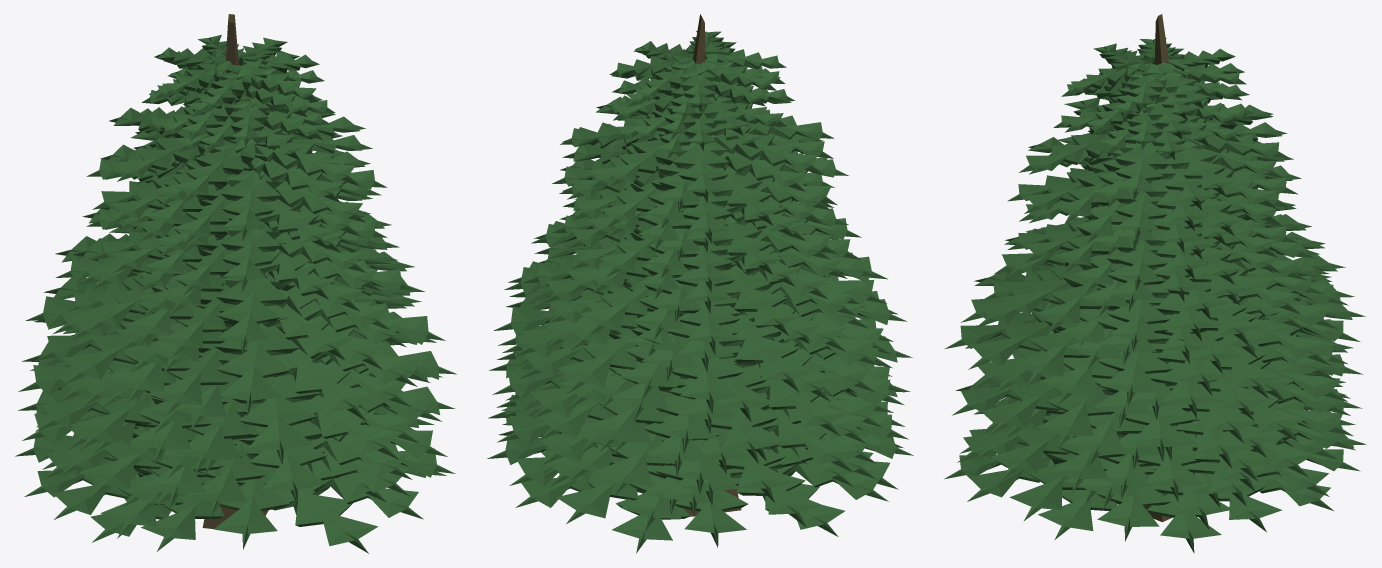
File: pine tree.fbx
3 renders of one model, left to right at view 1: azimuth 30°, elevation 25°; view 2: azimuth 150°, elevation 25°; view 3: azimuth 270°, elevation 25°, orthographic. The views are drawn at different scales.
Parts seen in each view (by area): view 1: pasted__pasted__pasted__pasted__pasted__pasted__pasted__past (×33), pasted__pasted__pasted__pasted__pasted__pasted__pasted__pCon (×13), pasted__pasted__pasted__pasted__pasted__pCone17, pasted__pasted__pasted__pasted__pCone2, pasted__pasted__pasted__pasted__pasted__pasted__pCone25, pasted__pasted__pasted__pasted__pCone20, pasted__pasted__pasted__pCone20, pasted__pasted__pasted__pCone10, pasted__pasted__pasted__pasted__pCone26, pasted__pasted__pasted__pCone3, pasted__pasted__pasted__pCone6, pasted__pasted__pasted__pasted__pCone17 (+56 smaller); view 2: pasted__pasted__pasted__pasted__pasted__pasted__pasted__past (×39), pasted__pasted__pasted__pasted__pasted__pasted__pasted__pCon (×16), pasted__pasted__pasted__pasted__pasted__pCone19, pasted__pasted__pasted__pasted__pasted__pasted__pCone22, pasted__pasted__pasted__pasted__pasted__pCone20, pasted__pasted__pasted__pCone8, pasted__pasted__pasted__pasted__pCone8, pasted__pasted__pasted__pasted__pCone18, pasted__pasted__pasted__pCone9, pasted__pasted__pasted__pasted__pCone9, pasted__pasted__pasted__pCone5, pasted__pasted__pasted__pasted__pCone24 (+65 smaller); view 3: pasted__pasted__pasted__pasted__pasted__pasted__pasted__past (×59), pasted__pasted__pasted__pasted__pasted__pasted__pasted__pCon (×17), pasted__pasted__pasted__pasted__pasted__pCone7, pasted__pasted__pasted__pasted__pasted__pasted__pCone17, pasted__pasted__pasted__pasted__pCone5, pasted__pasted__pasted__pasted__pasted__pasted__pCone8, pasted__pasted__pasted__pCone11, pasted__pasted__pasted__pasted__pasted__pCone21, pasted__pasted__pasted__pasted__pasted__pasted__pCone38, pasted__pasted__pasted__pasted__pasted__pCone31, pasted__pasted__pasted__pasted__pasted__pCone14, pasted__pasted__pasted__pasted__pasted__pCone3 (+38 smaller).
Boxes of the visible parts, x1,y1,x2,y2 form: pasted__pasted__pasted__pasted__pasted__pasted__pasted__past (×33): [86, 37, 406, 347]; pasted__pasted__pasted__pasted__pasted__pasted__pasted__pCon (×13): [91, 159, 430, 479]; pasted__pasted__pasted__pasted__pasted__pCone17: [214, 323, 299, 415]; pasted__pasted__pasted__pasted__pCone2: [231, 374, 320, 465]; pasted__pasted__pasted__pasted__pasted__pasted__pCone25: [216, 274, 289, 354]; pasted__pasted__pasted__pasted__pCone20: [272, 348, 374, 420]; pasted__pasted__pasted__pCone20: [272, 486, 378, 553]; pasted__pasted__pasted__pCone10: [239, 421, 327, 505]; pasted__pasted__pasted__pasted__pCone26: [211, 459, 289, 549]; pasted__pasted__pasted__pCone3: [293, 395, 401, 459]; pasted__pasted__pasted__pCone6: [172, 397, 260, 474]; pasted__pasted__pasted__pasted__pCone17: [148, 330, 239, 417]; pasted__pasted__pasted__pasted__pasted__pasted__pasted__past (×39): [504, 41, 861, 351]; pasted__pasted__pasted__pasted__pasted__pasted__pasted__pCon (×16): [513, 102, 848, 480]; pasted__pasted__pasted__pasted__pasted__pCone19: [718, 314, 815, 392]; pasted__pasted__pasted__pasted__pasted__pasted__pCone22: [717, 265, 801, 335]; pasted__pasted__pasted__pasted__pasted__pCone20: [558, 328, 638, 394]; pasted__pasted__pasted__pCone8: [752, 406, 858, 472]; pasted__pasted__pasted__pasted__pCone8: [743, 363, 848, 436]; pasted__pasted__pasted__pasted__pCone18: [672, 346, 743, 413]; pasted__pasted__pasted__pCone9: [594, 424, 673, 496]; pasted__pasted__pasted__pasted__pCone9: [582, 391, 673, 452]; pasted__pasted__pasted__pCone5: [704, 393, 781, 463]; pasted__pasted__pasted__pasted__pCone24: [556, 459, 638, 523]; pasted__pasted__pasted__pasted__pasted__pasted__pasted__past (×59): [975, 43, 1348, 499]; pasted__pasted__pasted__pasted__pasted__pasted__pasted__pCon (×17): [973, 168, 1338, 529]; pasted__pasted__pasted__pasted__pasted__pCone7: [1036, 377, 1116, 449]; pasted__pasted__pasted__pasted__pasted__pasted__pCone17: [1012, 302, 1090, 386]; pasted__pasted__pasted__pasted__pCone5: [983, 365, 1072, 435]; pasted__pasted__pasted__pasted__pasted__pasted__pCone8: [1125, 405, 1196, 461]; pasted__pasted__pasted__pCone11: [991, 413, 1076, 481]; pasted__pasted__pasted__pasted__pasted__pCone21: [968, 303, 1061, 369]; pasted__pasted__pasted__pasted__pasted__pasted__pCone38: [1096, 474, 1171, 541]; pasted__pasted__pasted__pasted__pasted__pCone31: [1009, 436, 1086, 521]; pasted__pasted__pasted__pasted__pasted__pCone14: [1122, 433, 1206, 501]; pasted__pasted__pasted__pasted__pasted__pCone3: [1066, 395, 1143, 465].
Size of the model in its own units: 14.08 by 17.98 by 14.18.
